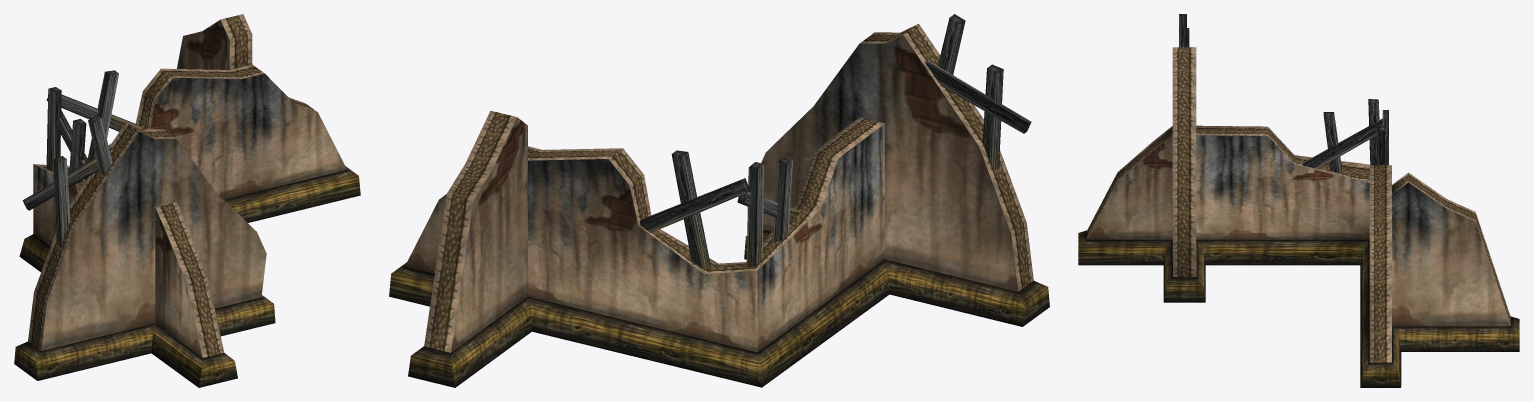
File: CB_BRKN_BUILDING07_CM.fbx
The picture shows the model from 3 angles, left to right: view 1: azimuth 30°, elevation 25°; view 2: azimuth 150°, elevation 25°; view 3: azimuth 270°, elevation 25°; orthographic projection. The views are drawn at different scales.
Parts seen in each view (by area): view 1: CB_BRKN_BUILDING07_CM; view 2: CB_BRKN_BUILDING07_CM; view 3: CB_BRKN_BUILDING07_CM.
Part boxes in pixels (x1,y1,x2,y2): CB_BRKN_BUILDING07_CM: (14,14,360,387); CB_BRKN_BUILDING07_CM: (389,14,1049,387); CB_BRKN_BUILDING07_CM: (1078,14,1519,387).
Size of the model in its own units: 246859 by 130296 by 242330.
Materials: 5 (5 with a texture image).
